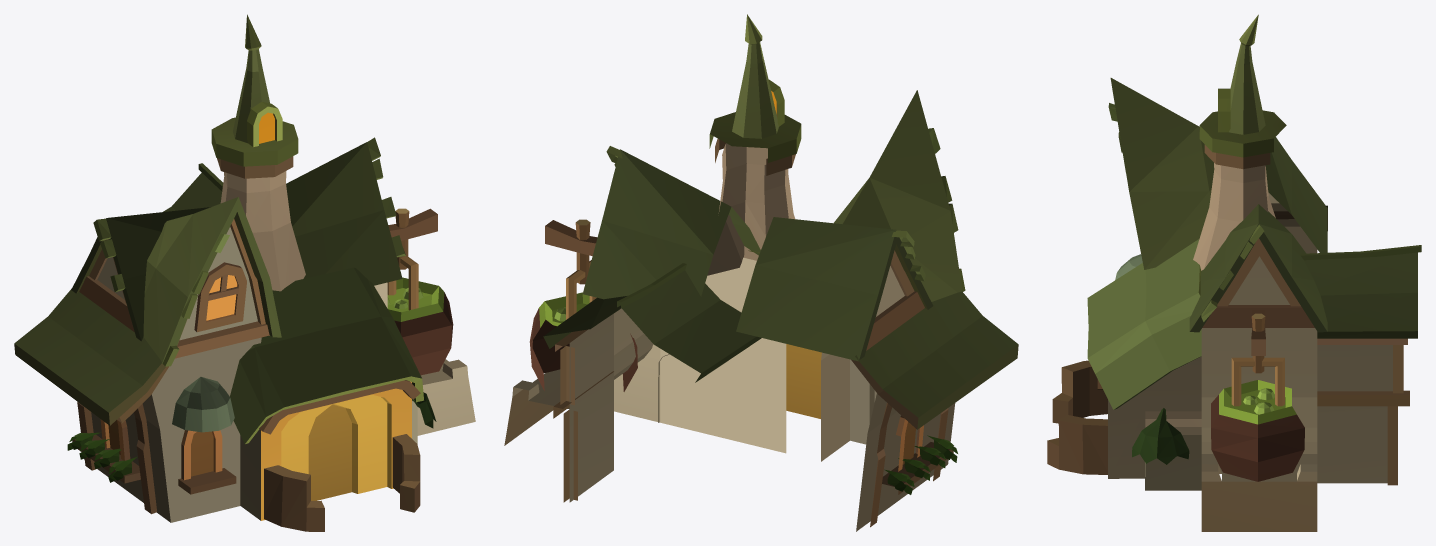
Rendered from building23.fbx.
The picture shows the model from 3 angles, left to right: view 1: azimuth 30°, elevation 25°; view 2: azimuth 150°, elevation 25°; view 3: azimuth 270°, elevation 25°; orthographic projection. The views are drawn at different scales.
Parts seen in each view (by area): view 1: building23; view 2: building23; view 3: building23.
Part boxes in pixels (box(x1,y1,x2,y2)): building23: box(14, 14, 475, 531); building23: box(504, 14, 1018, 531); building23: box(1047, 14, 1421, 531).
Bounding box in the file's own units: 2.93 × 3.02 × 2.42.
1 material, 1 textured.
